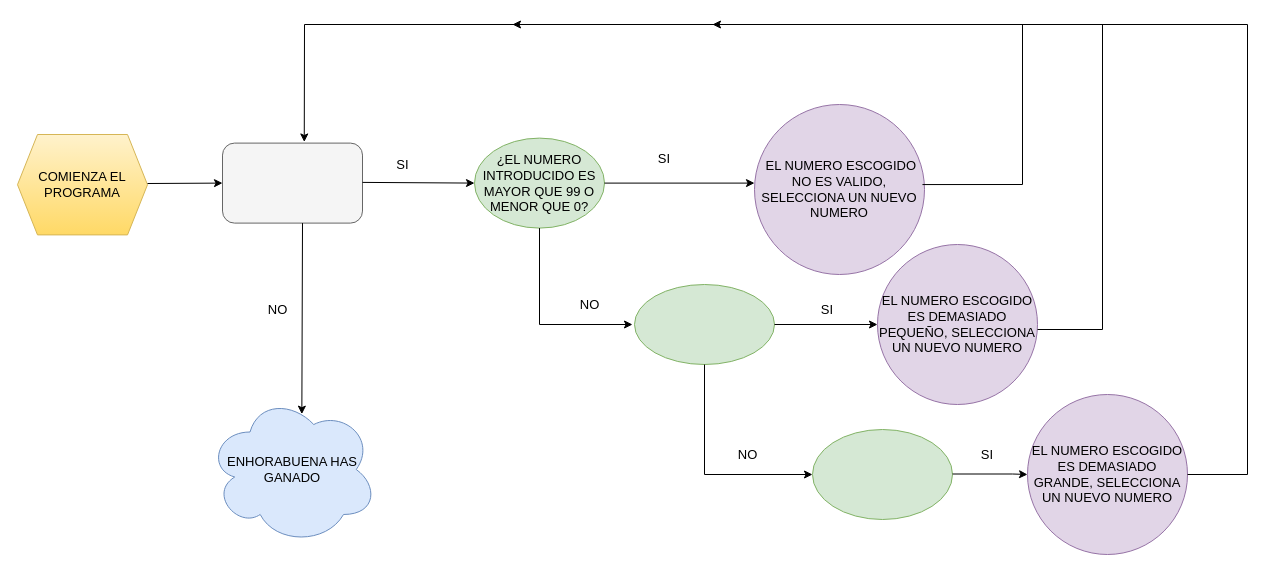
Some shapes in this 1273 by 572 pixel diagram are drawn without their labels. Here are the shapes that lost their labels. From the top down, the box of each, then its label:
(222, 142, 362, 223): ¿EL NUMERO ALEATORIO ES DISTINTO AL NUMERO INTRODUCIDO?
(634, 284, 774, 364): ¿EL NUMERO INTRODUCIDO ES MENOR AL NUMERO ALEATORIO?
(812, 428, 952, 520): ¿EL NUMERO INTRODUCIDO ES MAYOR AL NUMERO ALEATORIO?
